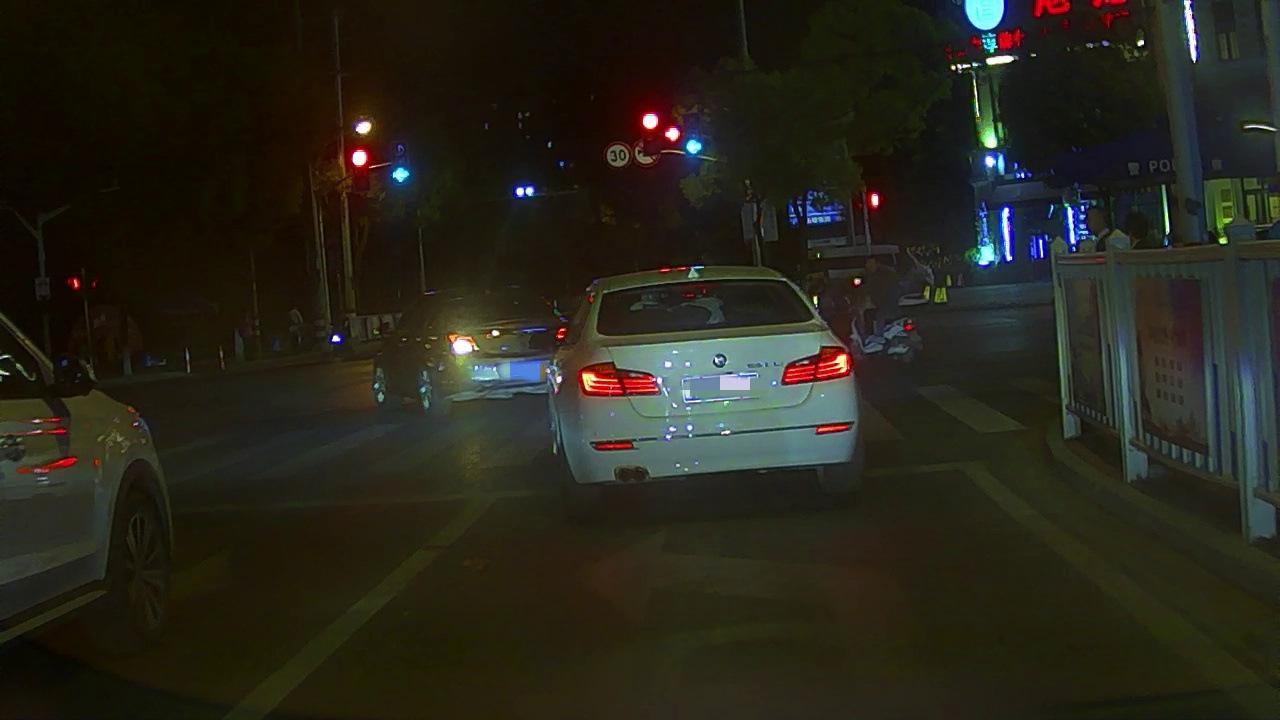traffic_light: (639, 110, 661, 153), (681, 114, 702, 159), (351, 148, 369, 192), (388, 161, 413, 188), (661, 123, 683, 146)
